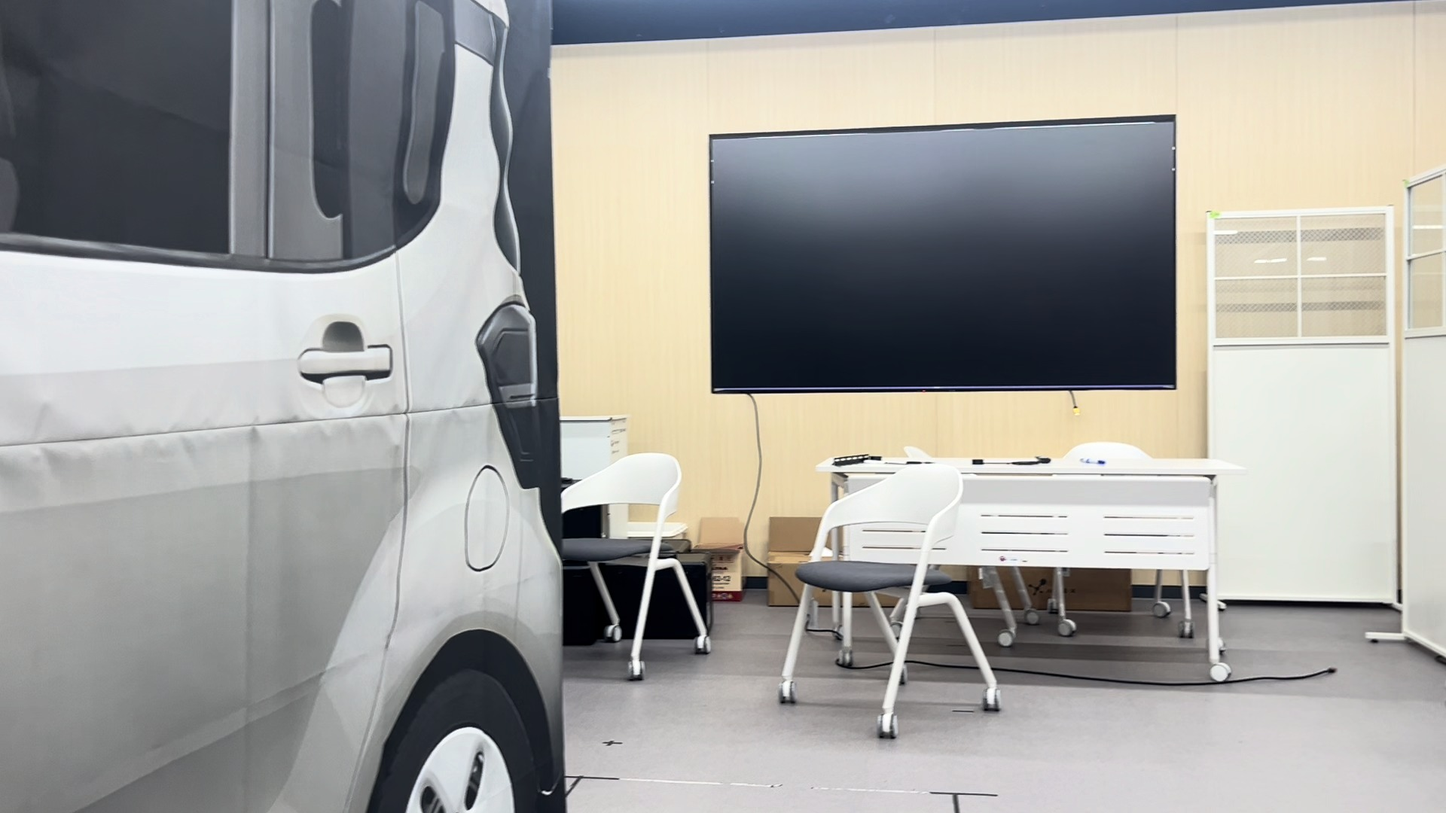door_handle: (298, 346, 392, 382)
fuel_cap: (467, 467, 508, 570)
tail_light: (475, 307, 543, 487)
